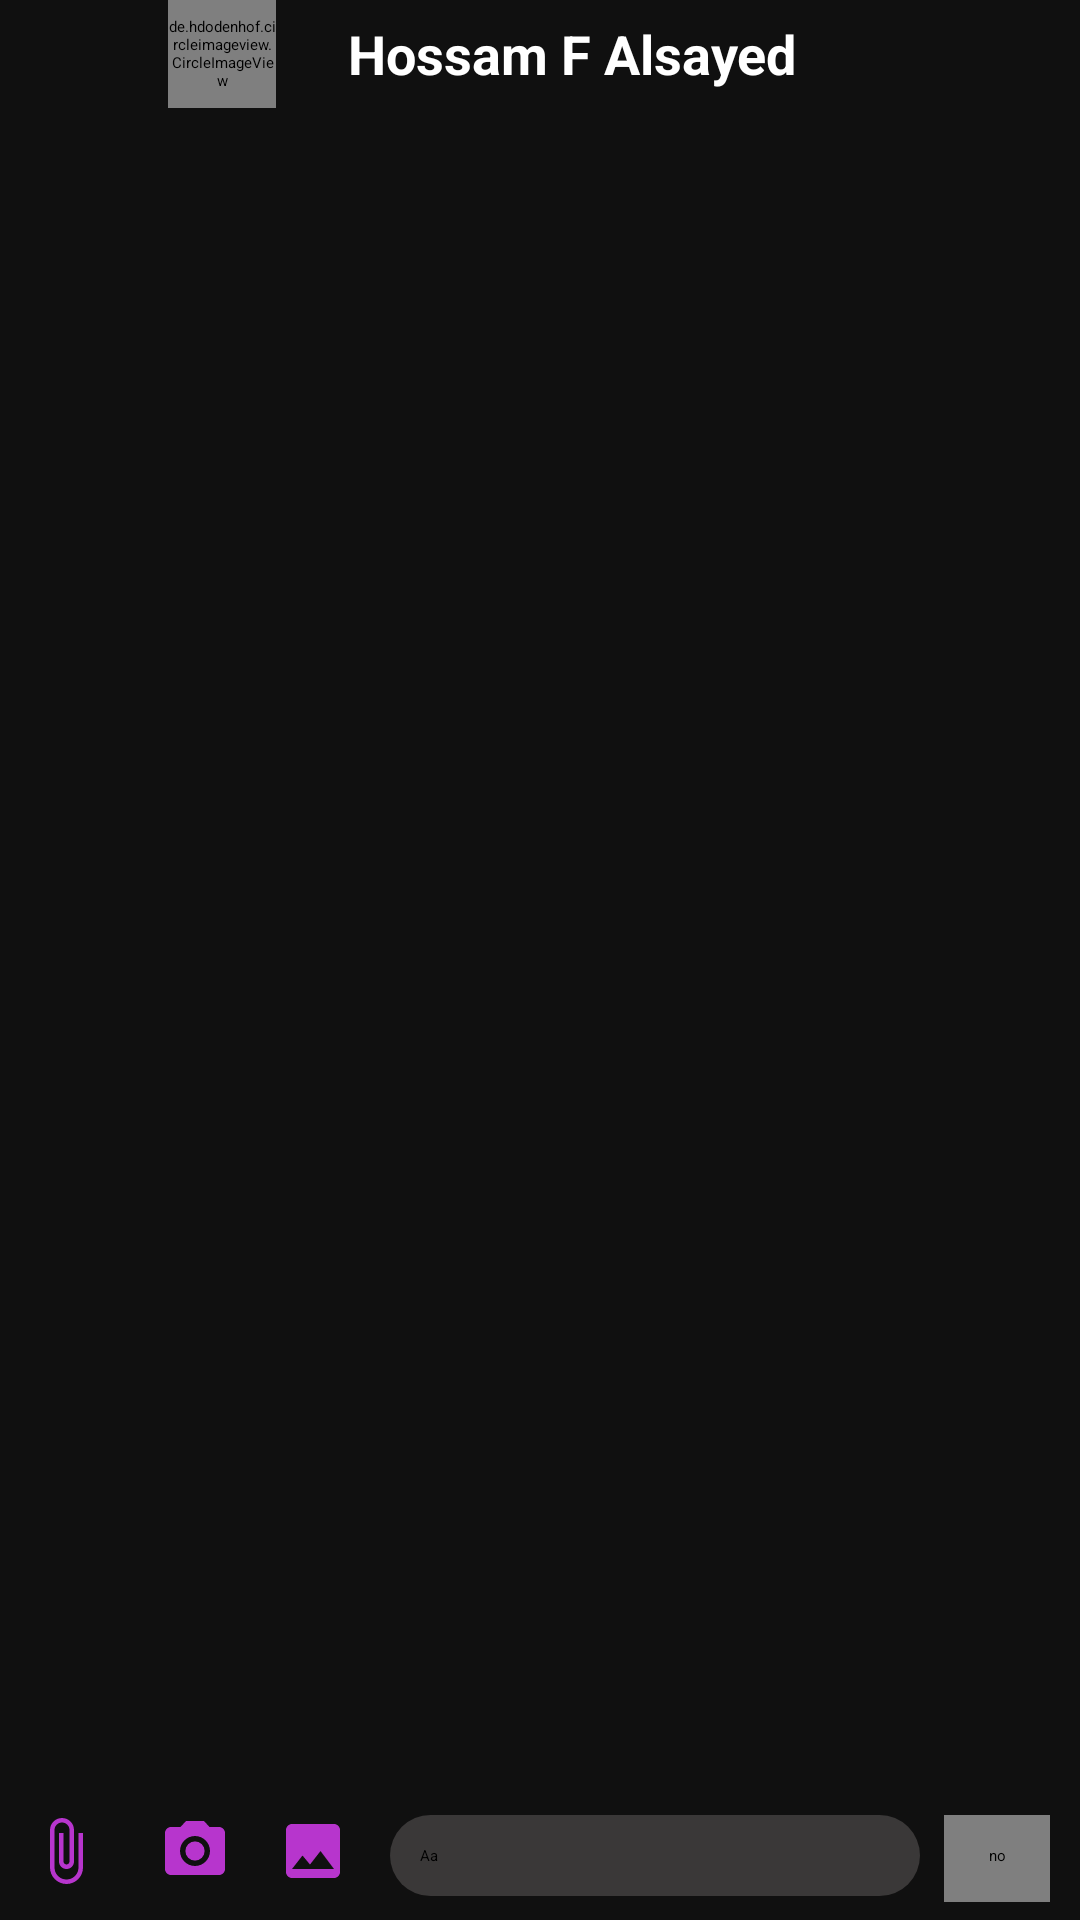

Icon click points for this 1080x1920 phone screenshot, format (x,y):
attach file: (66,1851)
photo camera: (195,1848)
